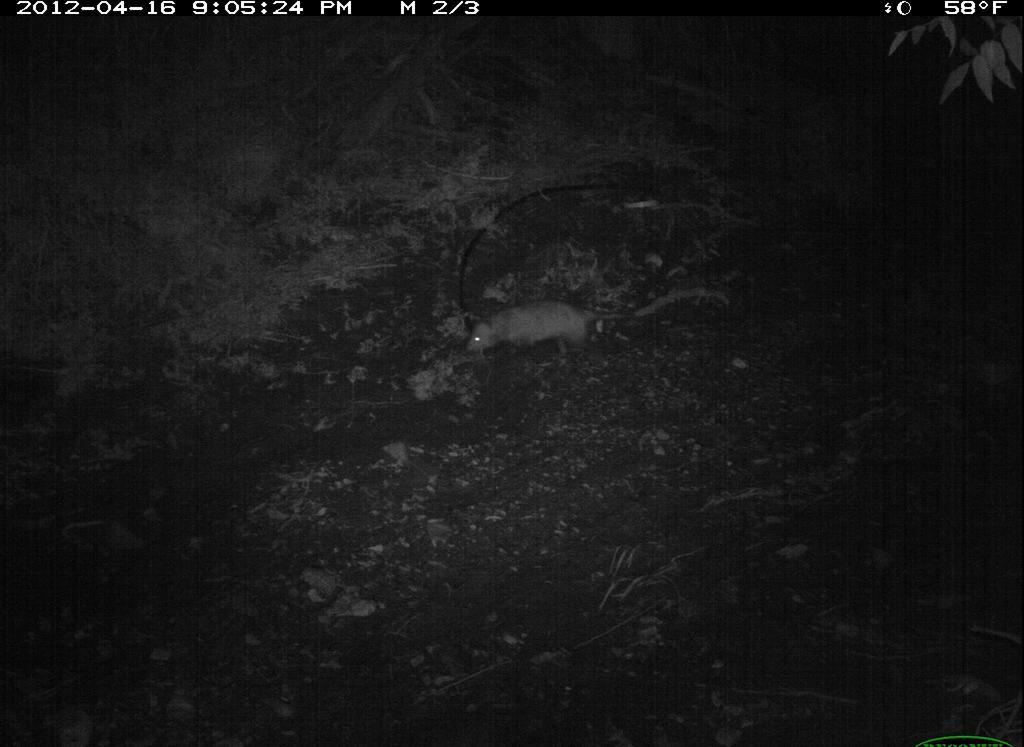opossum: (463, 296, 625, 367)
